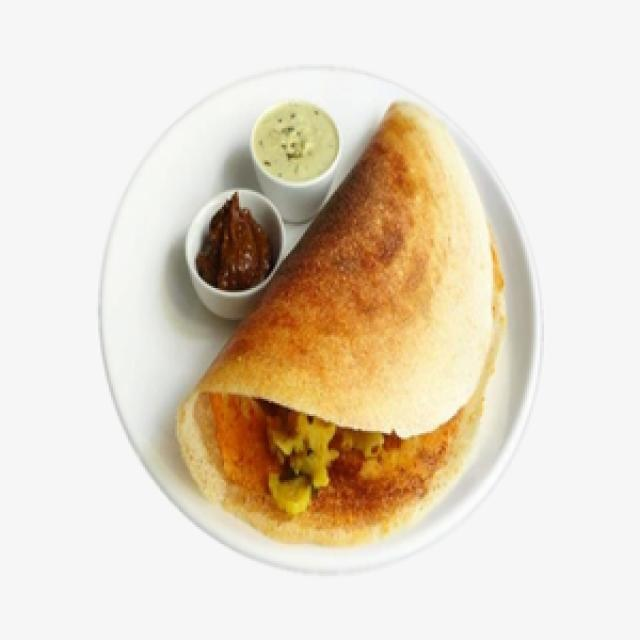dosa: (155, 83, 526, 572)
